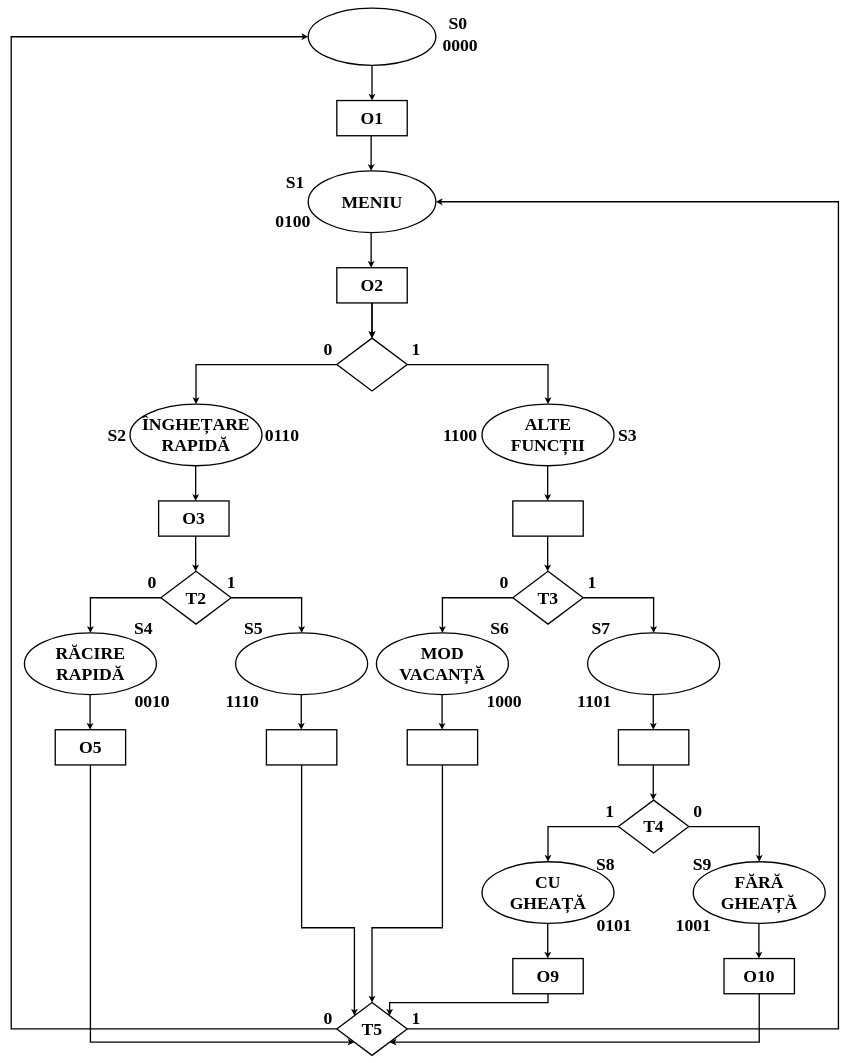
This 850x1063 diagram has some shape labels left out. Each missing label, with the centre of its shape:
CONGELARE RAPIDĂ: the point at 301,663
DOZATOR LICHIDE: the point at 653,663
O4: the point at 548,518
O6: the point at 301,747
O7: the point at 442,747
O8: the point at 653,747
START: the point at 371,36
T1: the point at 372,364
